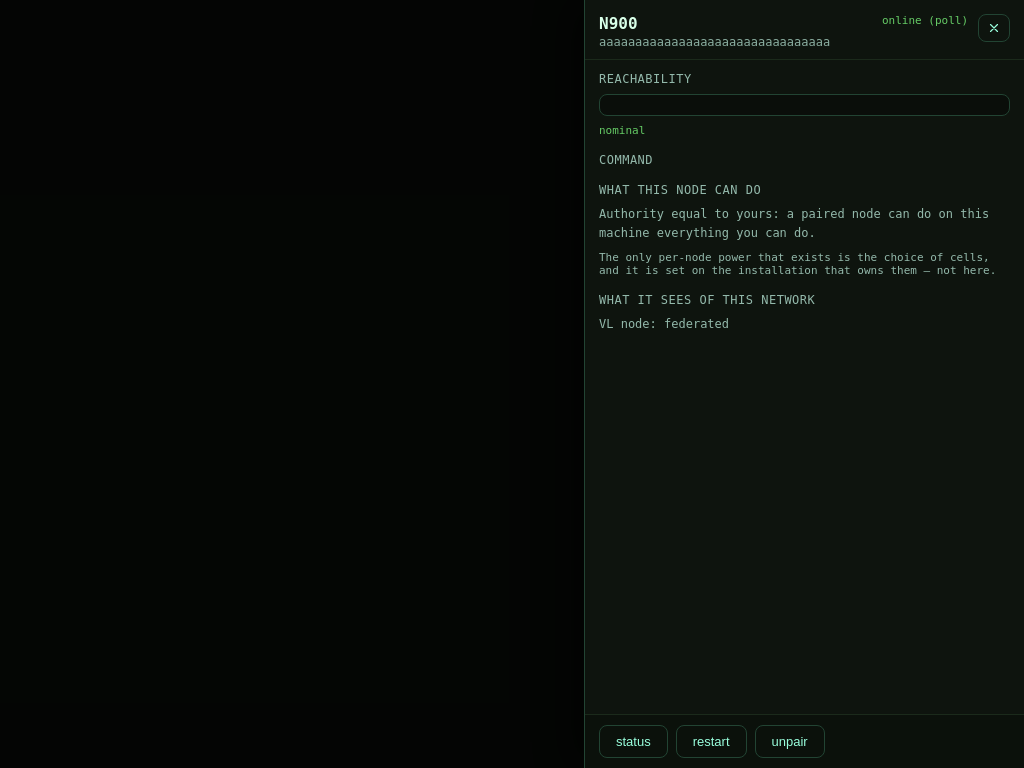
Test: UI nodi VL step 2: comandi VL da capabilities + stato da lastAck › shows "submitted" right after sending — not a success that has not happened yet
Click the button "restart". click: [711, 742]
box: [676,725,746,758]
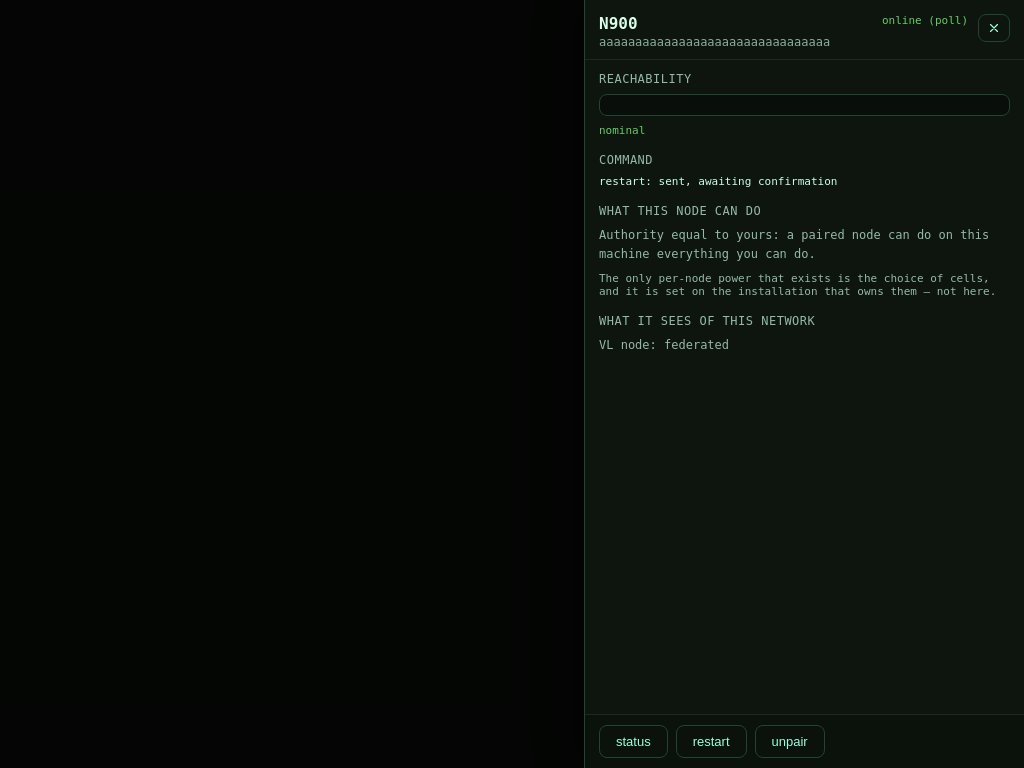
Check: the text "restart: sent, awaiting confirmation" is shown, box [599,175,837,188]
